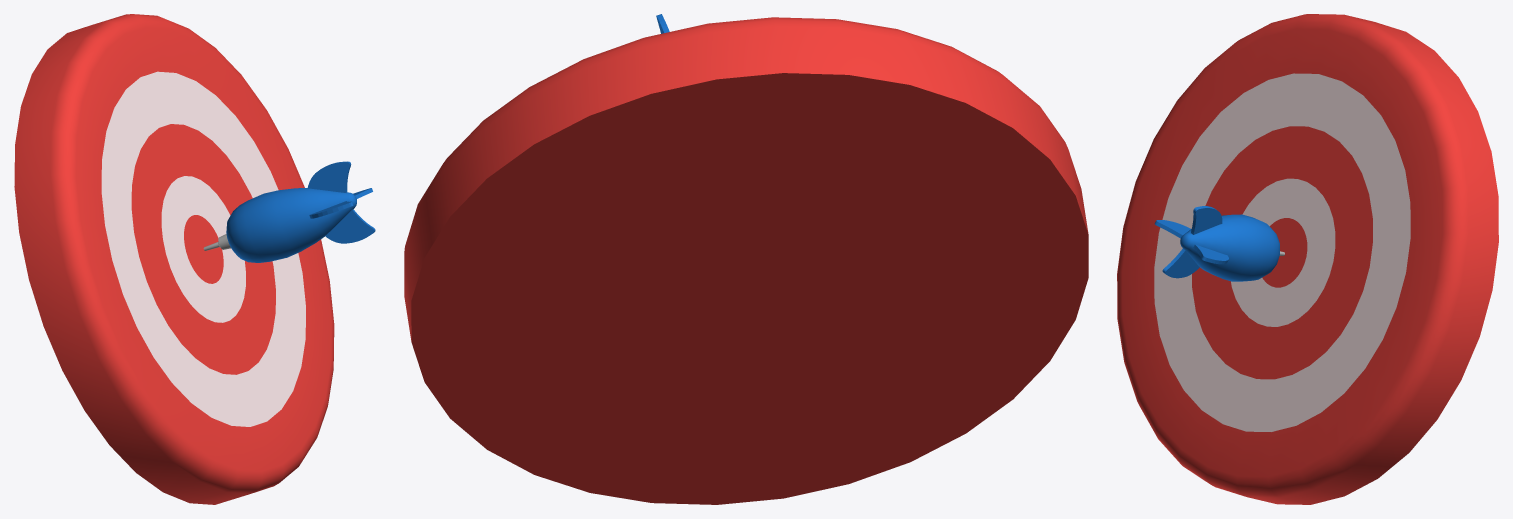
The model's file is bullseye.glb.
The picture shows the model from 3 angles, left to right: view 1: azimuth 30°, elevation 25°; view 2: azimuth 150°, elevation 25°; view 3: azimuth 270°, elevation 25°; orthographic projection. The views are drawn at different scales.
Parts seen in each view (by area): view 1: Circle.2532; view 2: Circle.2532; view 3: Circle.2532.
Part boxes in pixels (left/top/right/bottom): Circle.2532: left=14, top=14, right=375, bottom=504; Circle.2532: left=404, top=14, right=1088, bottom=504; Circle.2532: left=1117, top=14, right=1498, bottom=504.
Size of the model in its own units: 2.1 by 2.22 by 1.84.
1 material, 1 textured.
